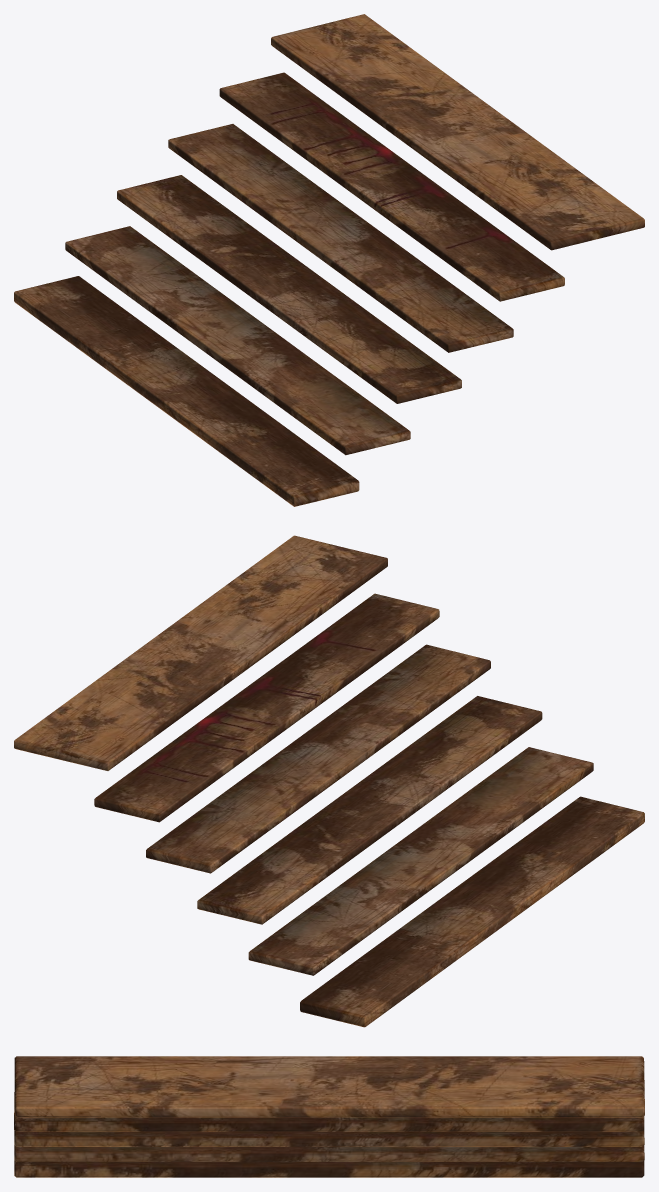
The picture shows the model from 3 angles, top to bottom: view 1: azimuth 30°, elevation 25°; view 2: azimuth 150°, elevation 25°; view 3: azimuth 270°, elevation 25°; orthographic projection. The views are drawn at different scales.
Visible parts, largest first — view 1: BP_Stairs_D1_100_Side; view 2: BP_Stairs_D1_100_Side; view 3: BP_Stairs_D1_100_Side.
Part boxes in pixels (x1=…): BP_Stairs_D1_100_Side: x1=14, y1=14, x2=644, y2=506; BP_Stairs_D1_100_Side: x1=14, y1=535, x2=644, y2=1027; BP_Stairs_D1_100_Side: x1=14, y1=1056, x2=644, y2=1177.
Size of the model in its own units: 132 by 72.95 by 184.
Materials: 1 (1 with a texture image).
